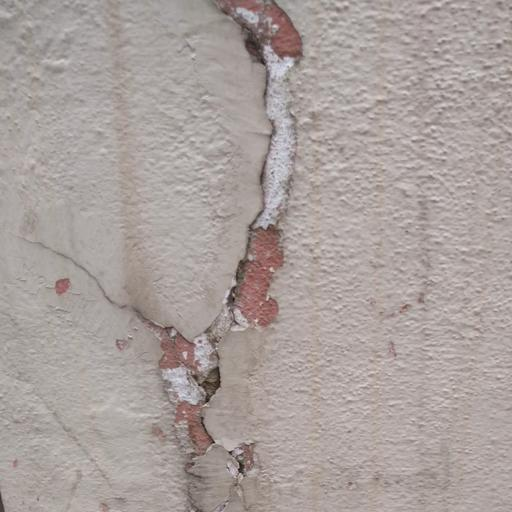peeling: (24, 0, 331, 490)
